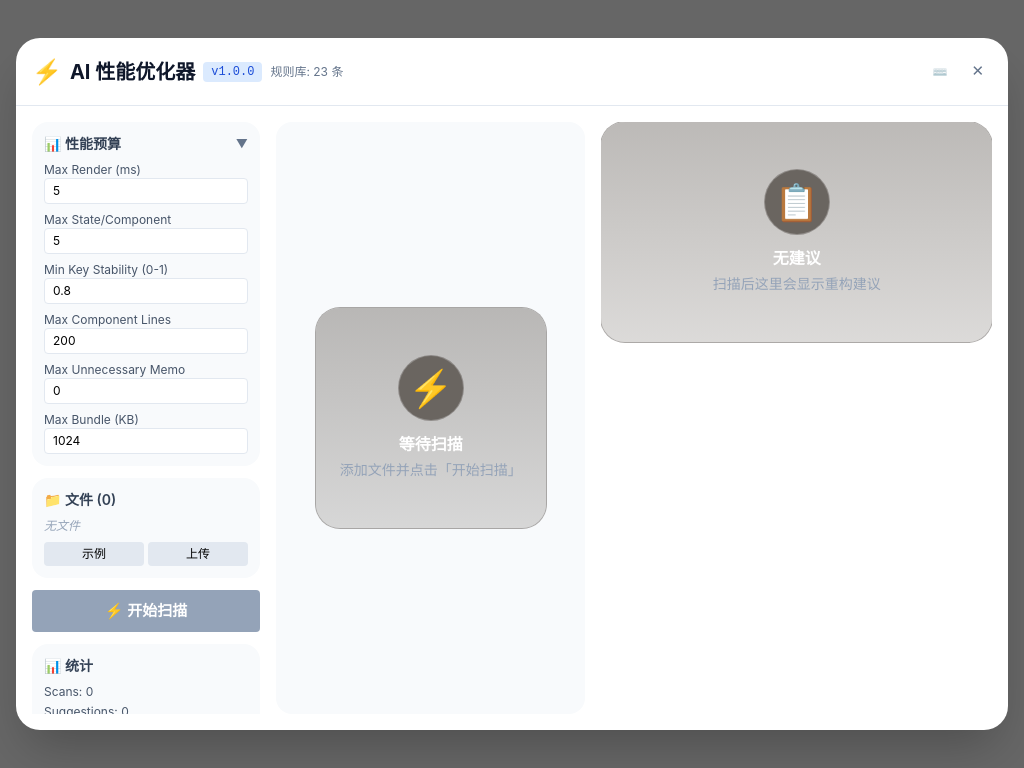
Test: PerfOptimizerPanel › 扫描后显示模式分布
What coordinates should you click on to do the following:
click the button "示例"
I would click on:
 (94, 554)
Its box is [44,542,144,566].
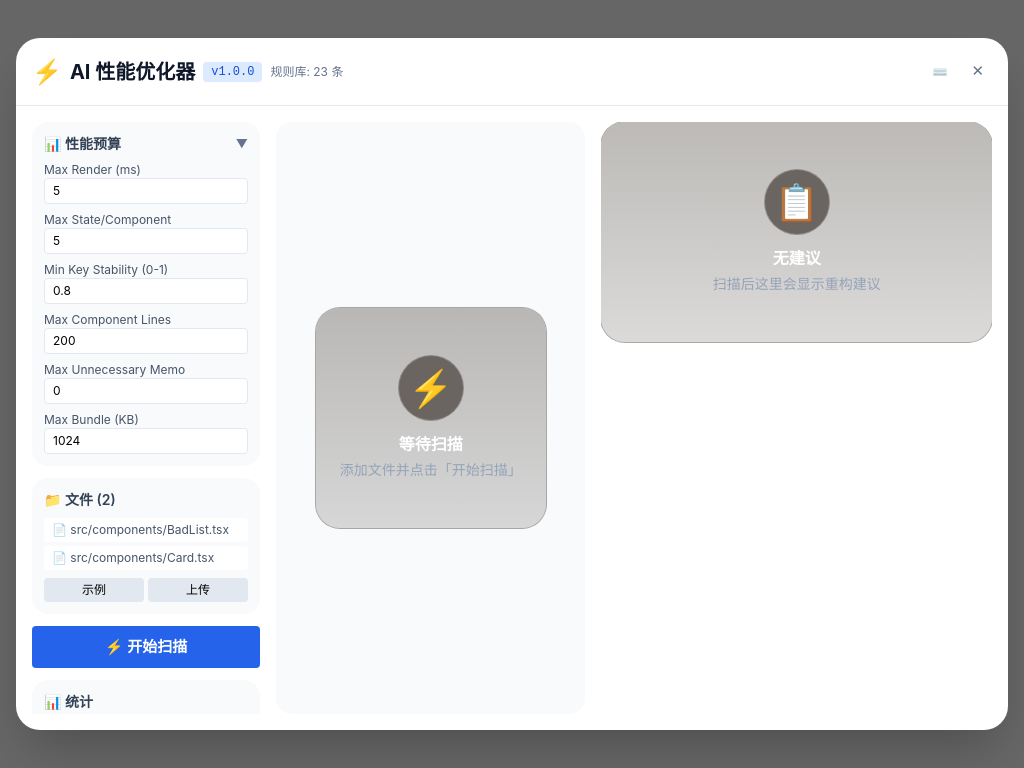
What coordinates should you click on to do the following:
click the button with test id "run-scan-btn"
I would click on:
 (146, 647)
Its box is [32,626,260,668].
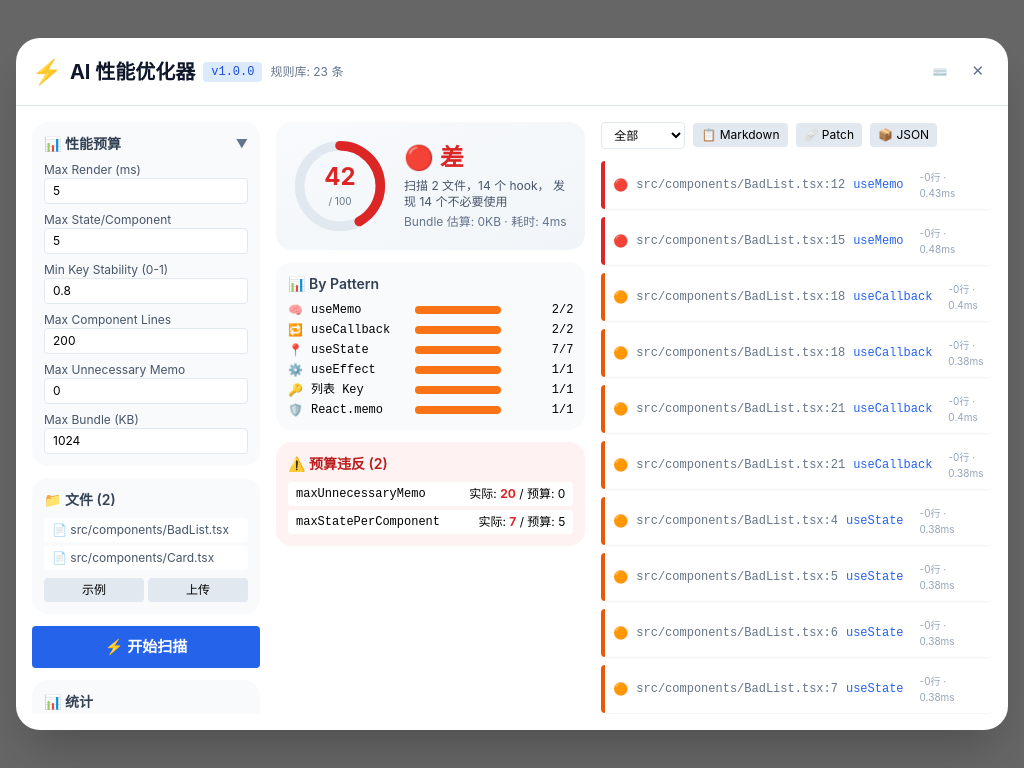
Now the heading "📊 By Pattern" is shown, box [288,275,379,292]
